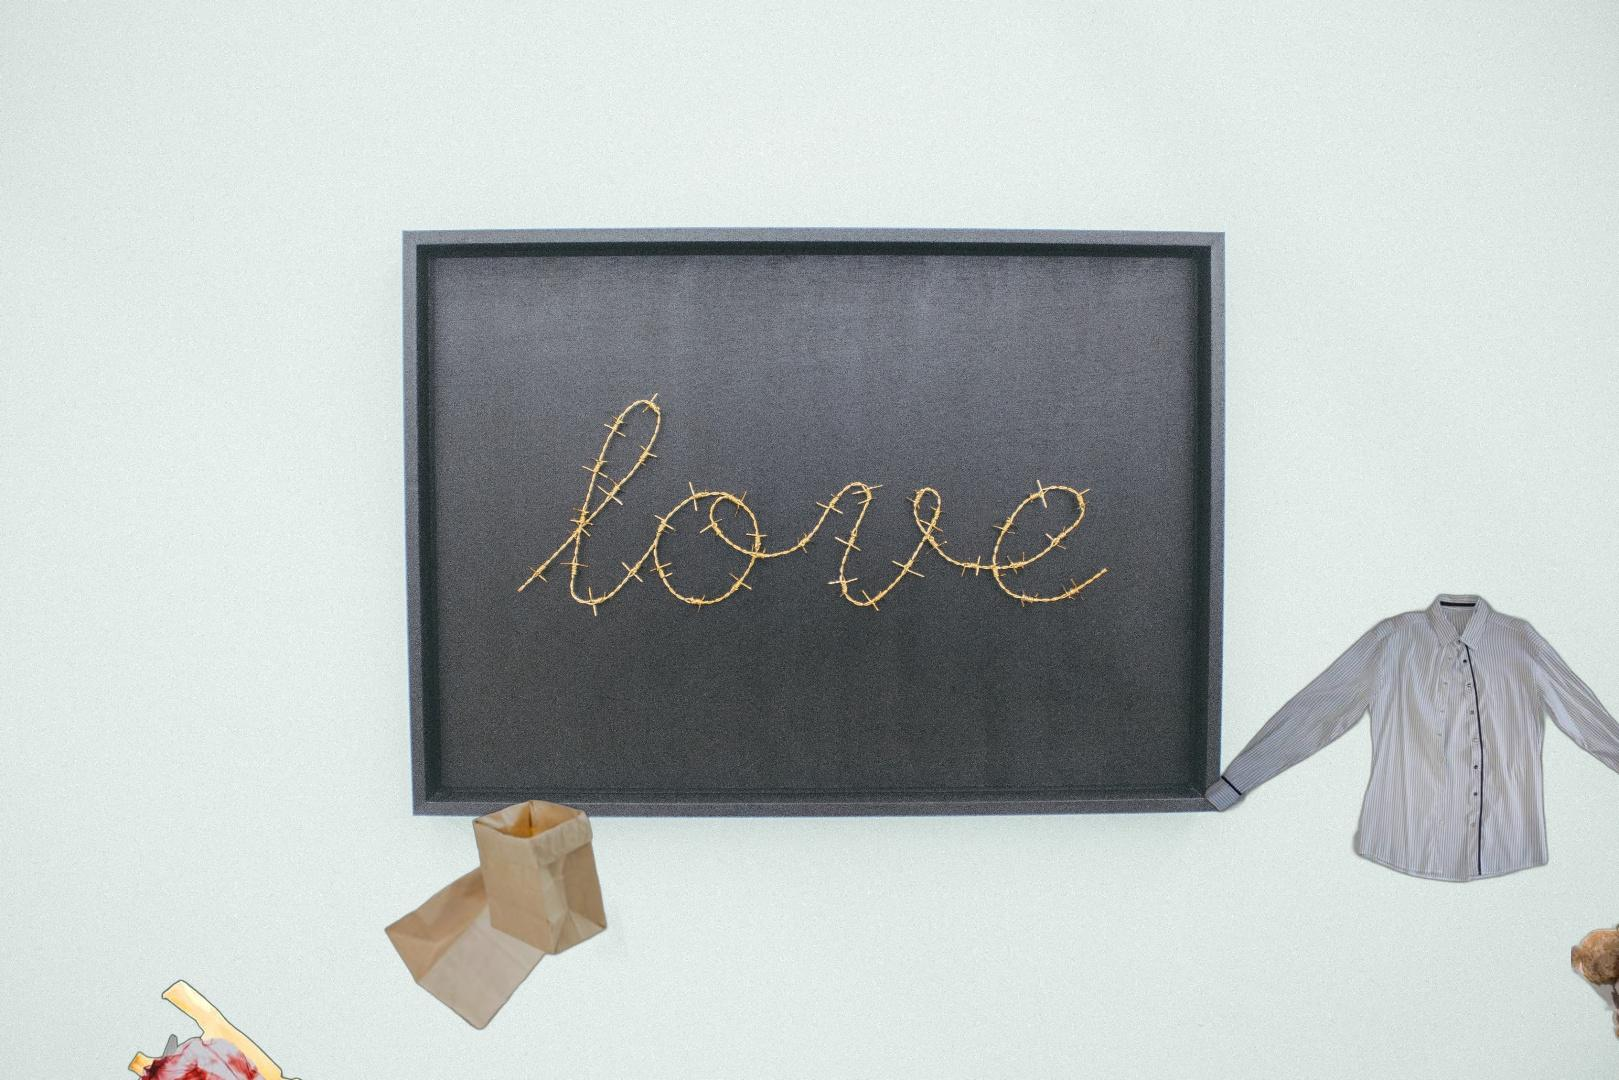biological: (1571, 891, 1619, 1080)
clothes: (1199, 591, 1619, 886)
paper-bag: (382, 797, 630, 1033)
plastic-bag: (121, 979, 313, 1080)
